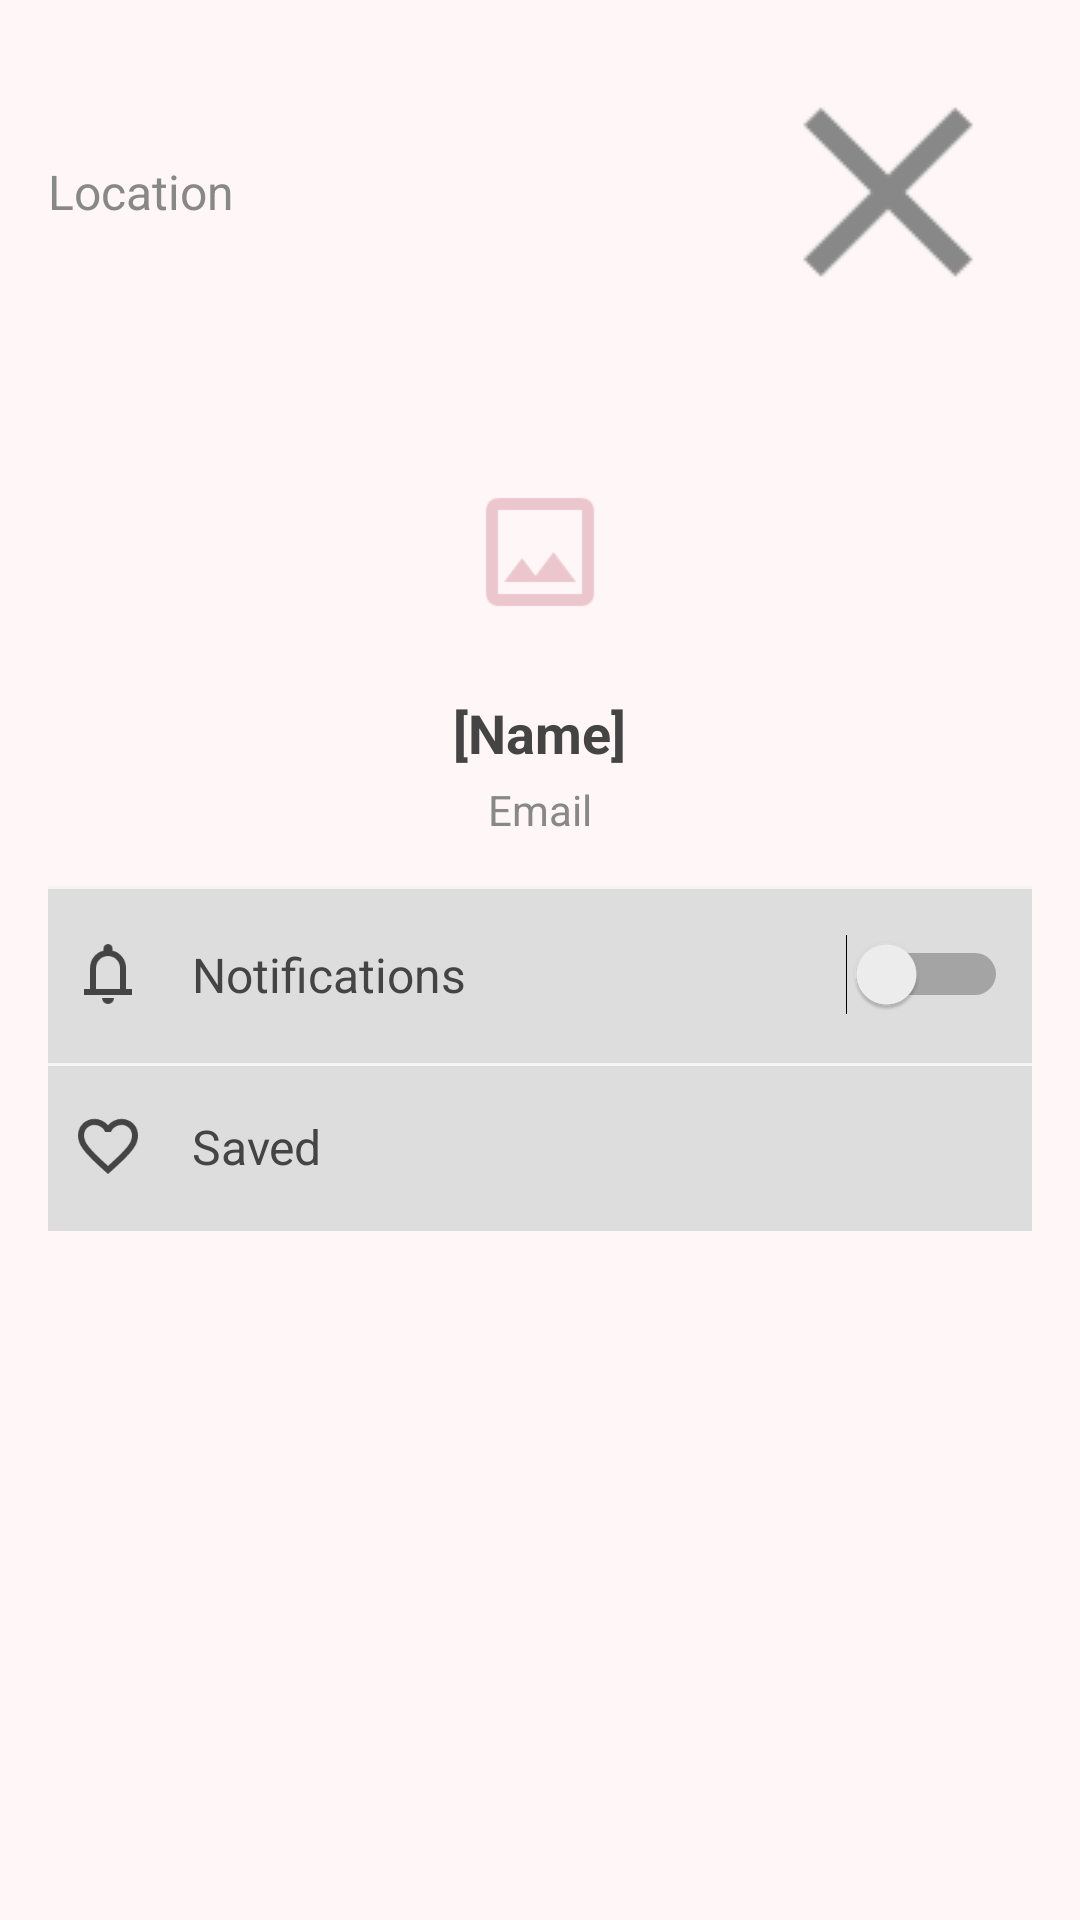

Point at icon controls on the screen. Image size 1080px×1920px, points as point (x, y).
Close: point (888, 192)
